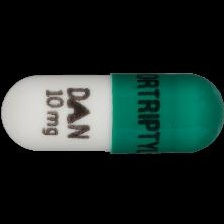10544-567: (0, 0, 224, 224)
